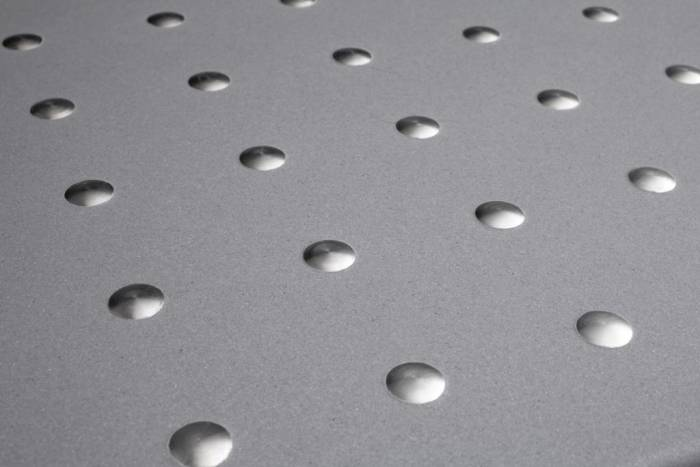rivet: (168, 419, 237, 467), (383, 359, 448, 405), (107, 282, 167, 323), (576, 309, 635, 350), (299, 237, 361, 275), (625, 163, 679, 196), (64, 177, 117, 210), (474, 199, 527, 232), (237, 143, 290, 174), (391, 113, 443, 143), (28, 95, 79, 124), (535, 86, 586, 115), (185, 70, 232, 96), (662, 57, 700, 89), (2, 30, 46, 57), (144, 7, 189, 32), (330, 46, 375, 69), (577, 2, 620, 26), (460, 24, 503, 46)
